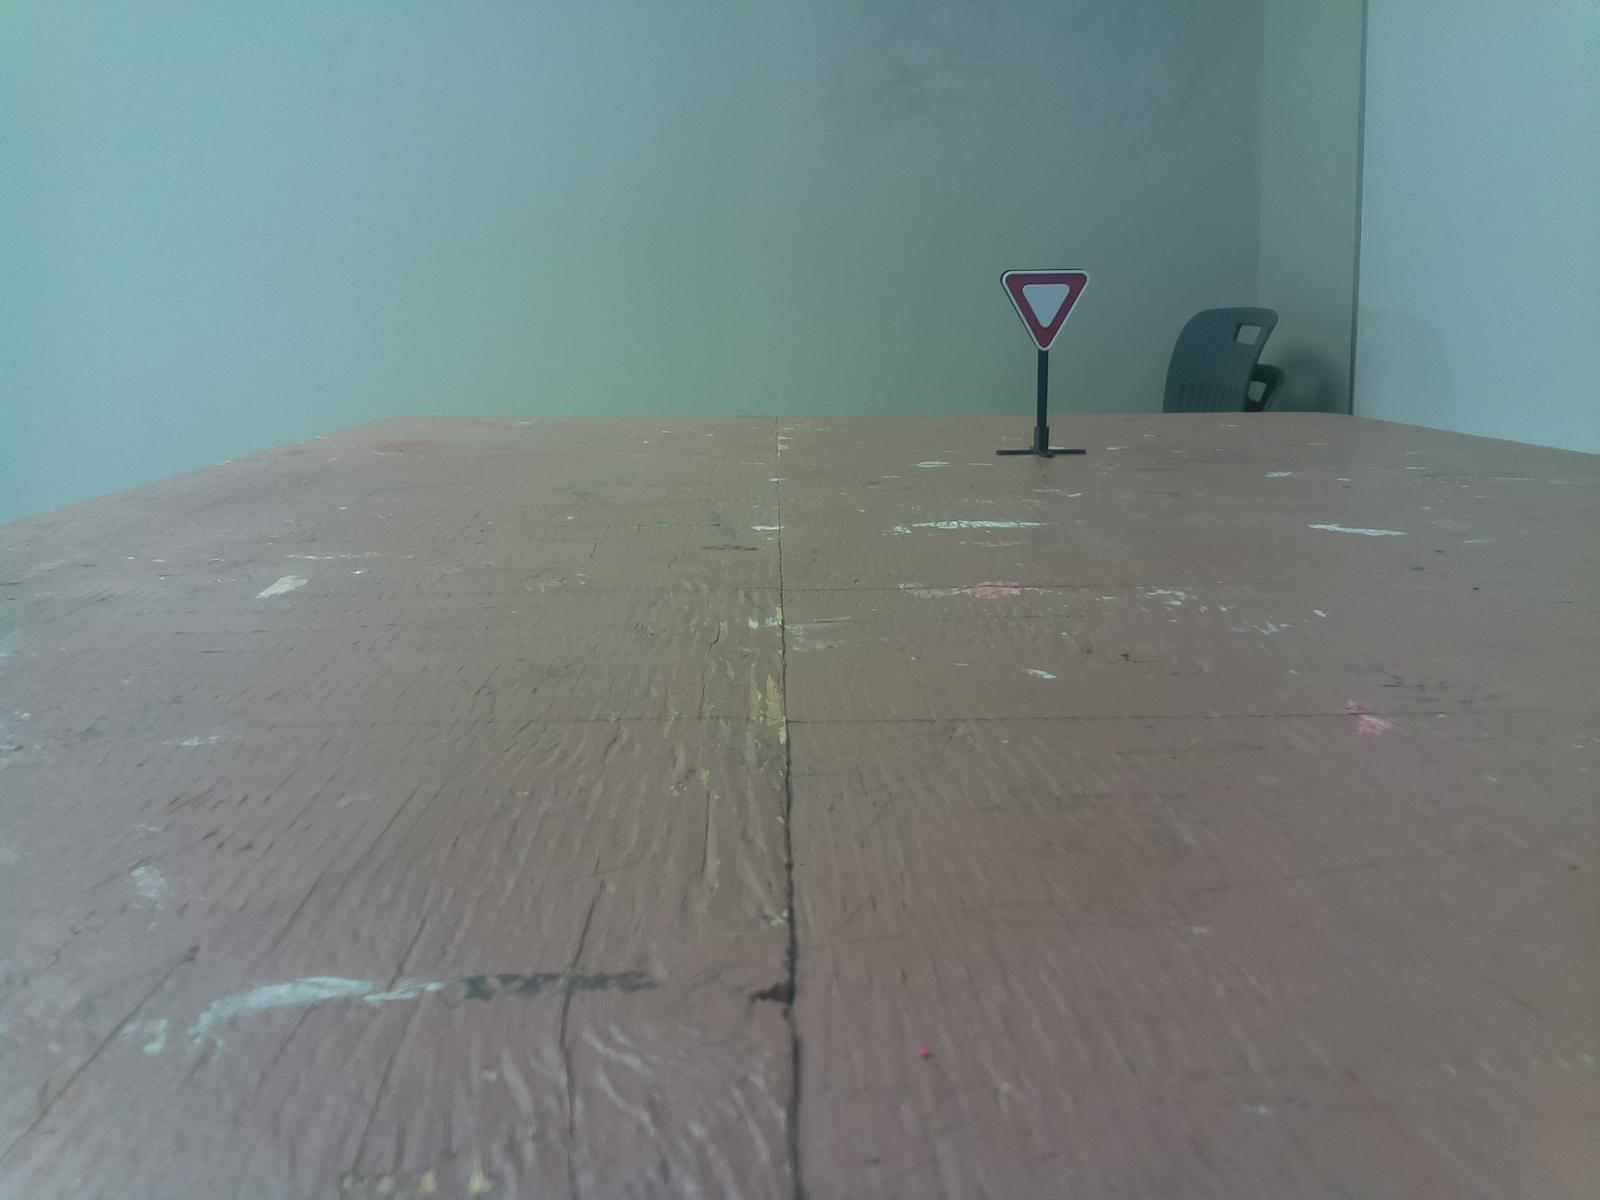sign_yield: (981, 262, 1111, 358)
